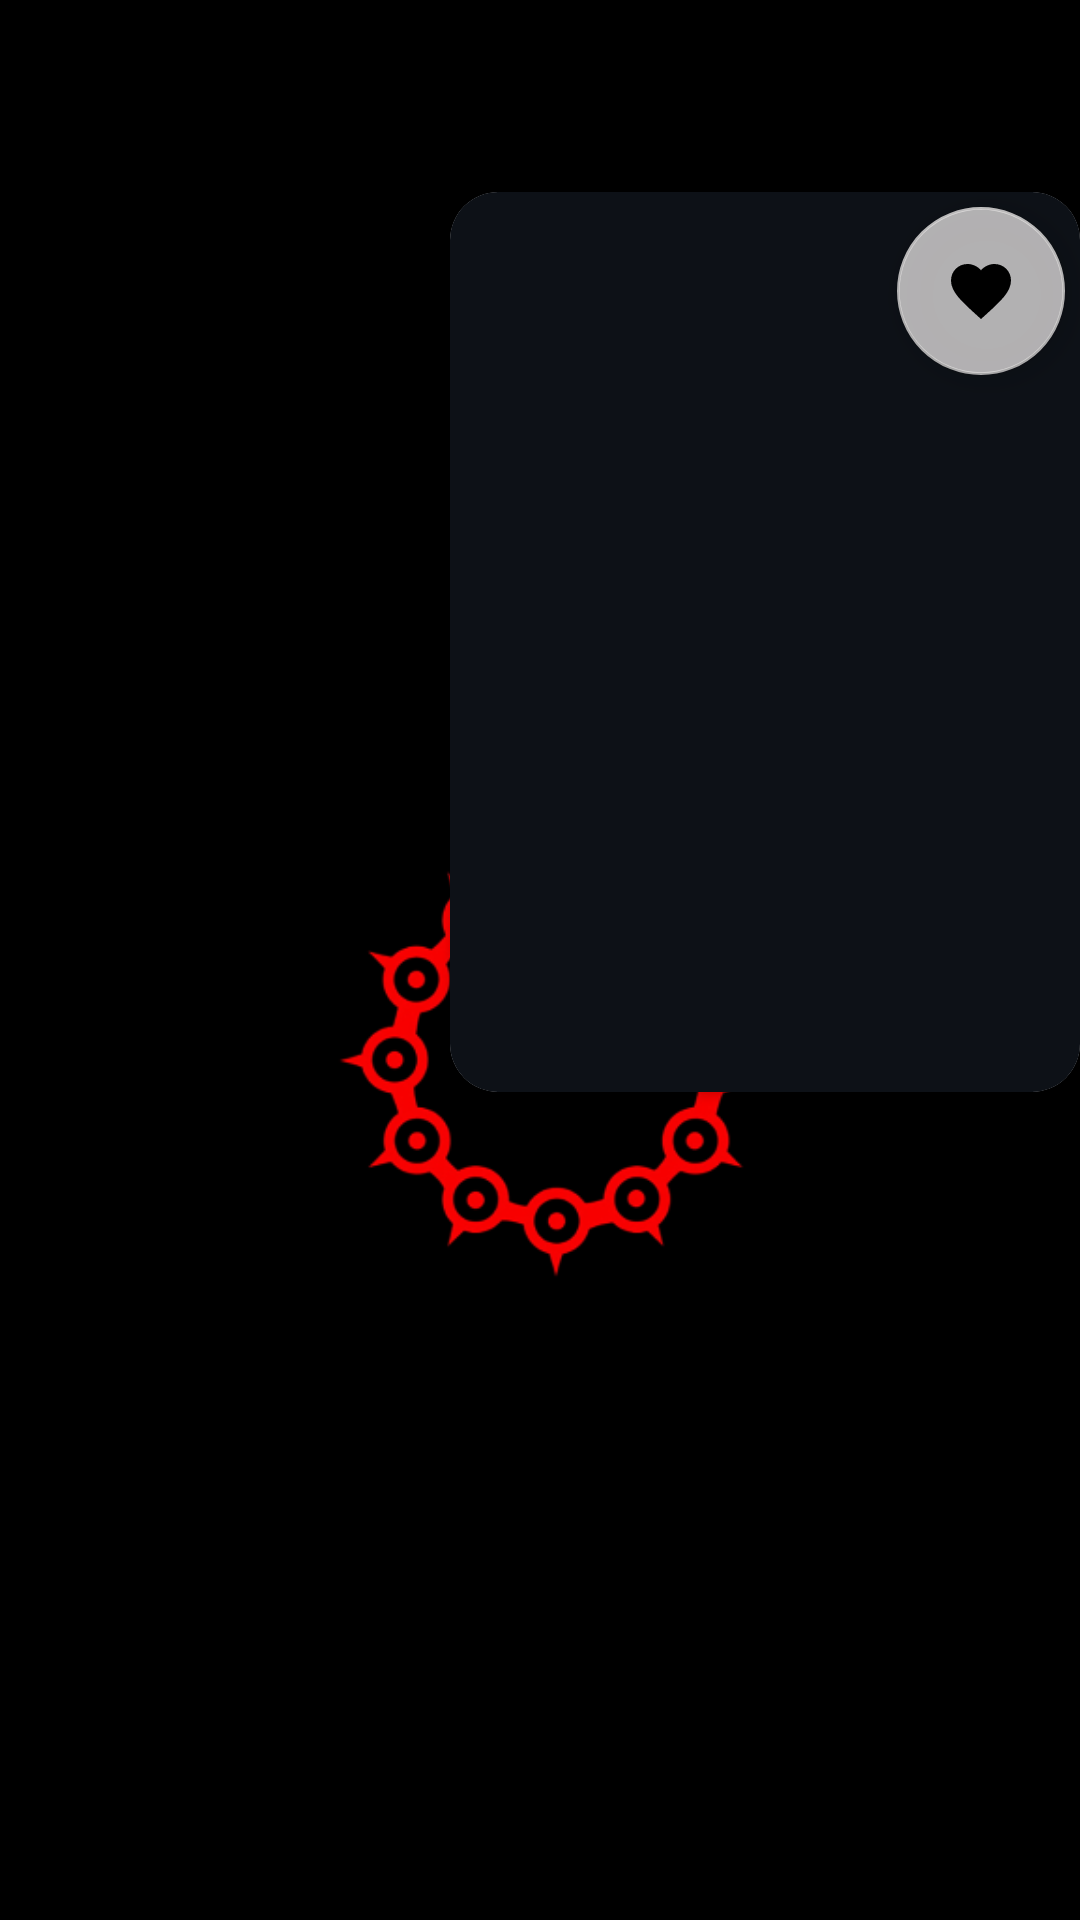

Icon bounding boxes for this 1080×1920 phone screenshot, format detection(x1, y1, x2, y2):
favorite: detection(897, 207, 1065, 375)
